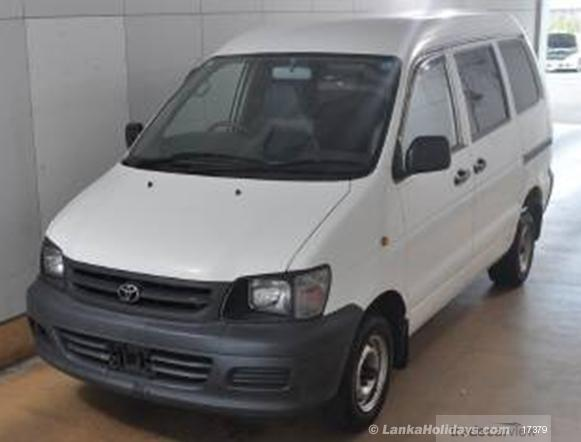car: (28, 14, 547, 426)
